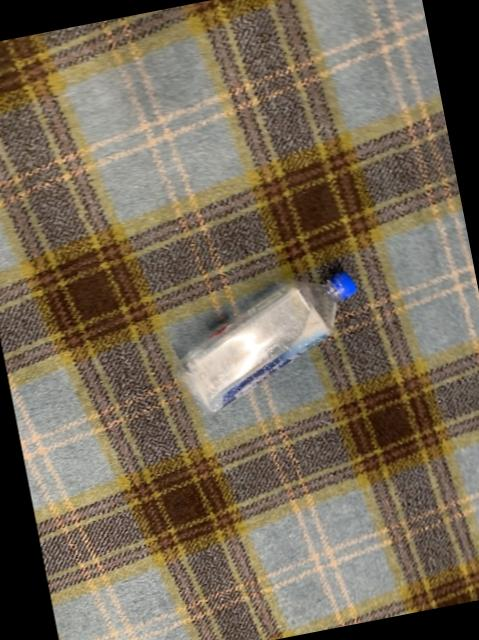plastic: (177, 273, 354, 413)
